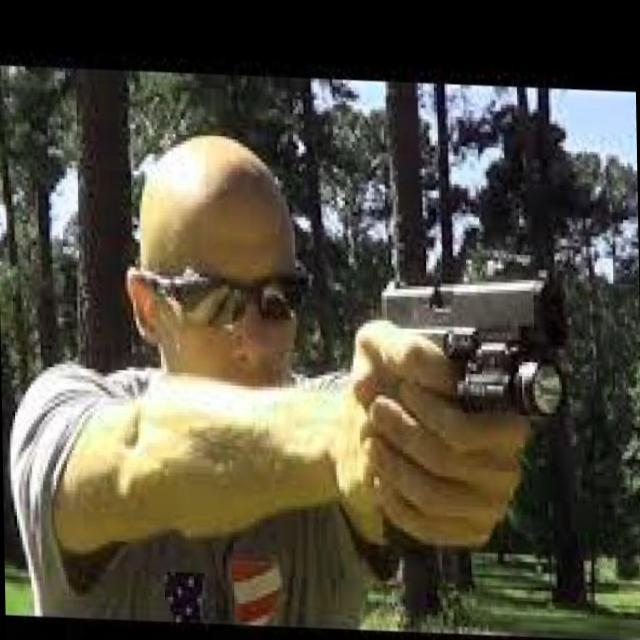weapon: (380, 262, 580, 420)
